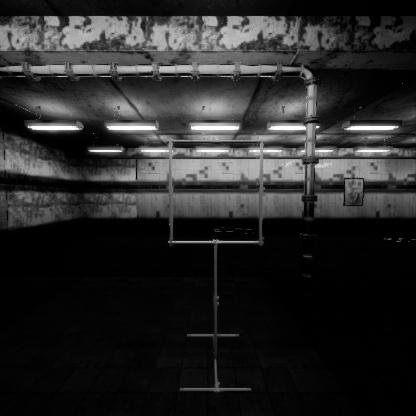gate: (169, 170, 272, 276)
